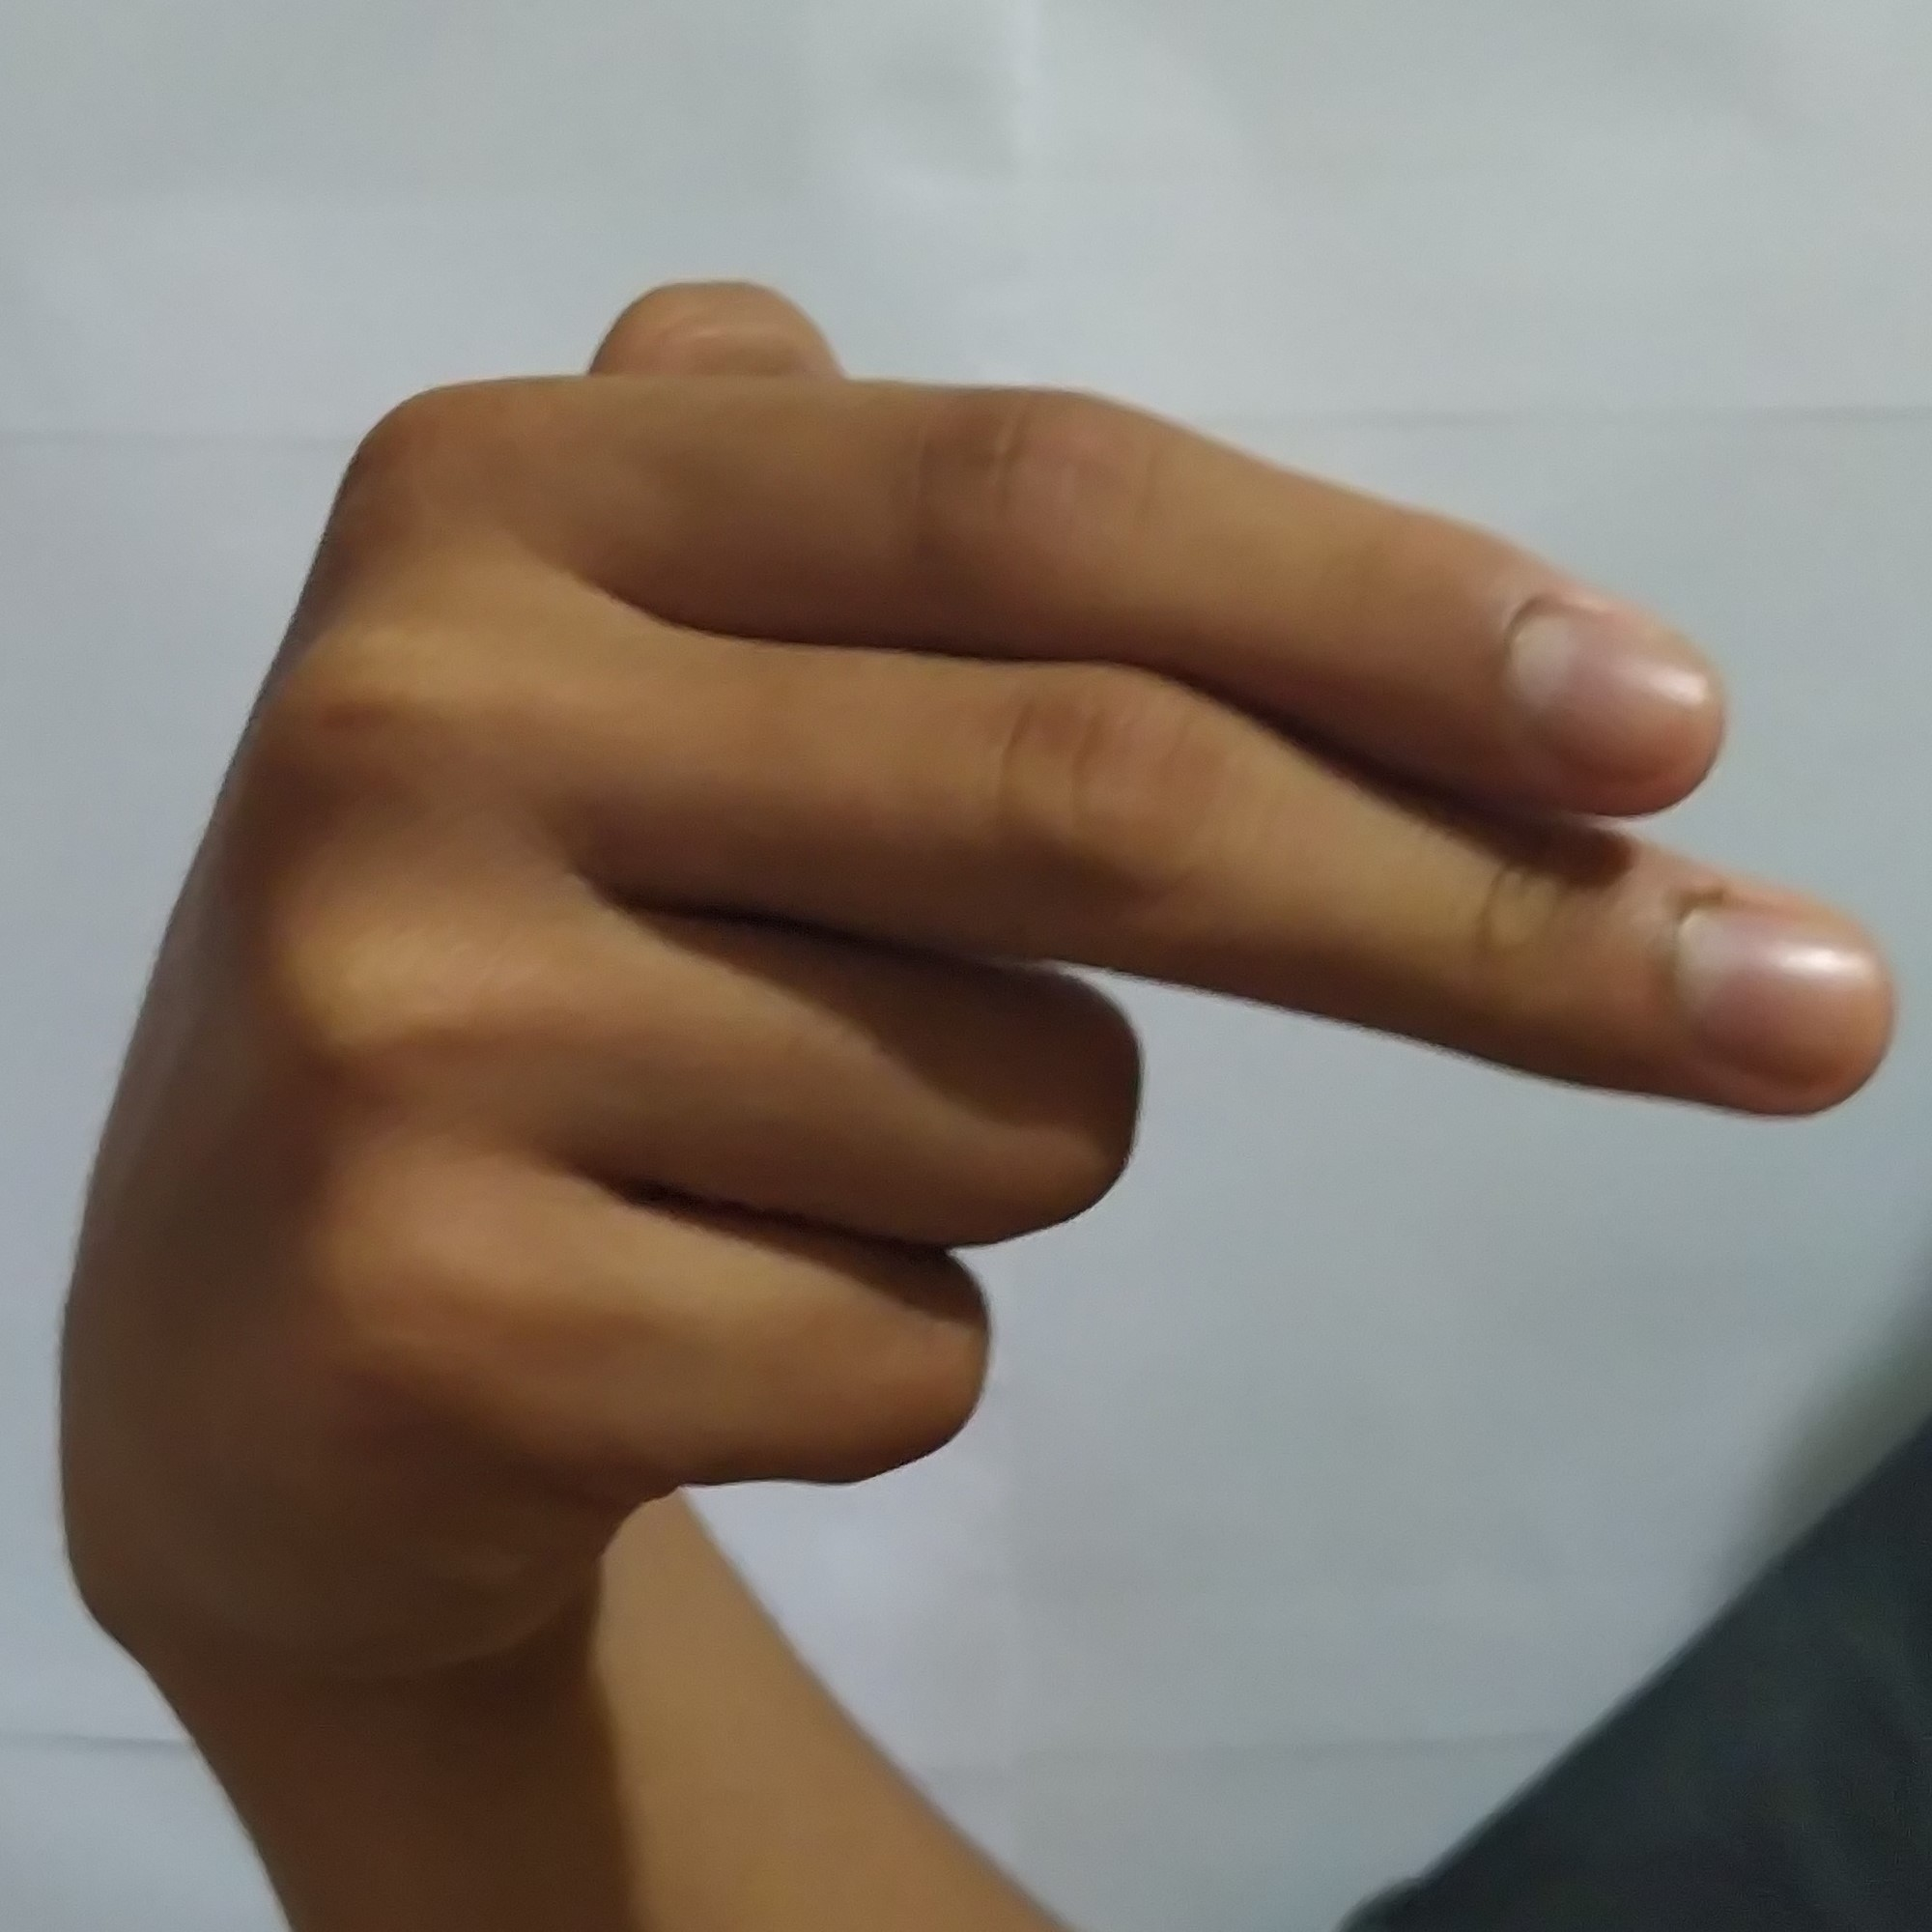H: (50, 264, 1913, 1575)
